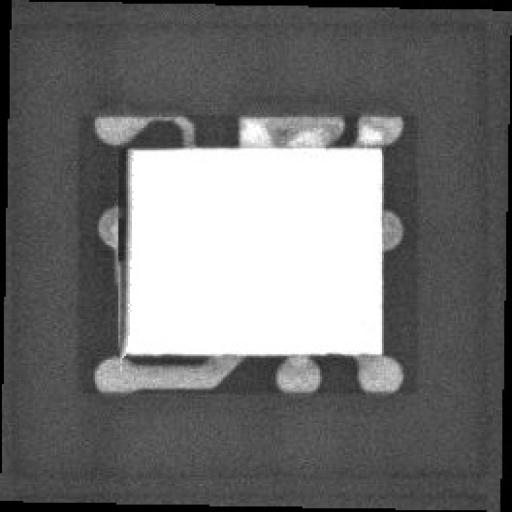DIE_BROKEN: (110, 141, 134, 360)
